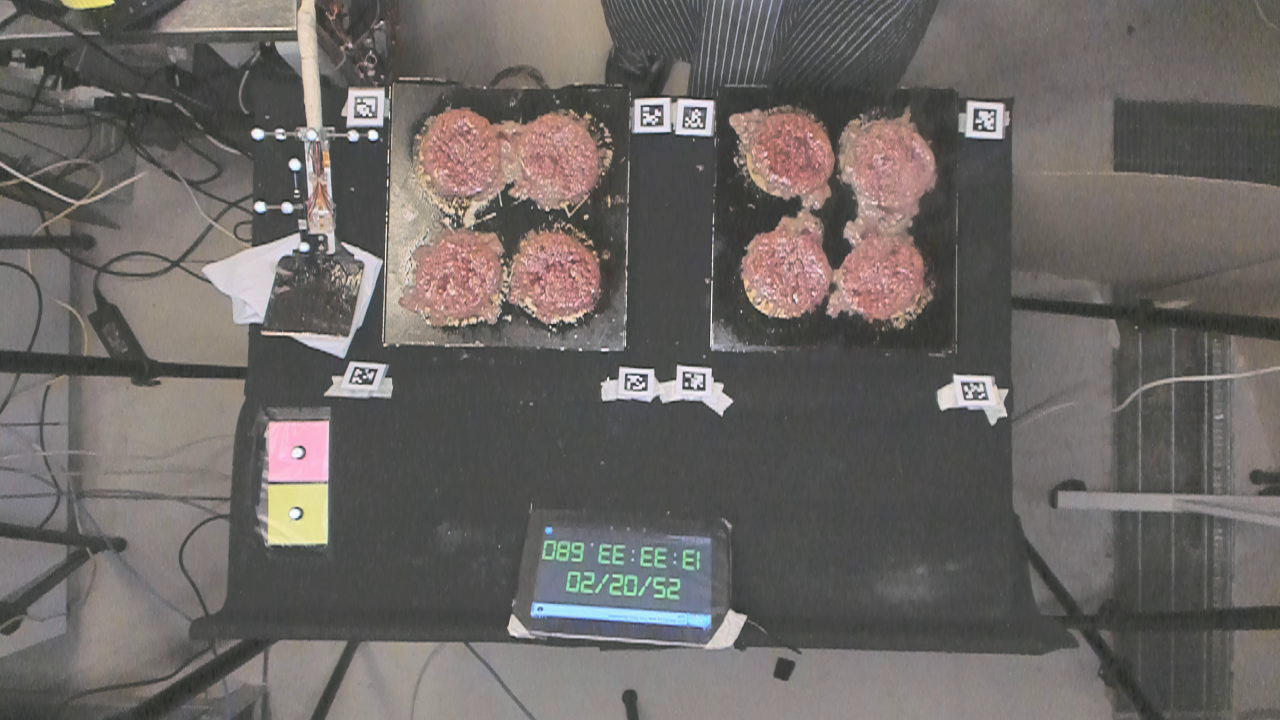hamburger: (843, 112, 933, 199), (414, 232, 497, 321), (742, 233, 831, 314), (514, 115, 598, 199), (842, 238, 927, 318), (422, 105, 500, 190), (516, 233, 594, 314), (759, 112, 832, 195)
marker: (266, 421, 329, 483)
